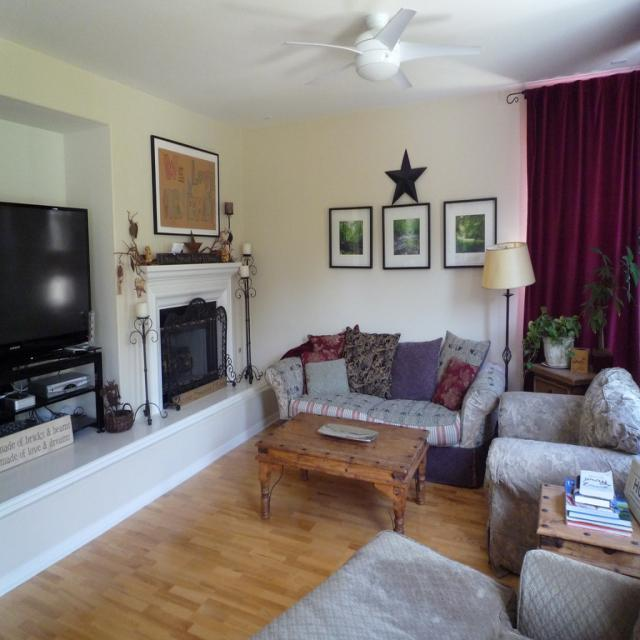fan_off: (287, 1, 488, 92)
